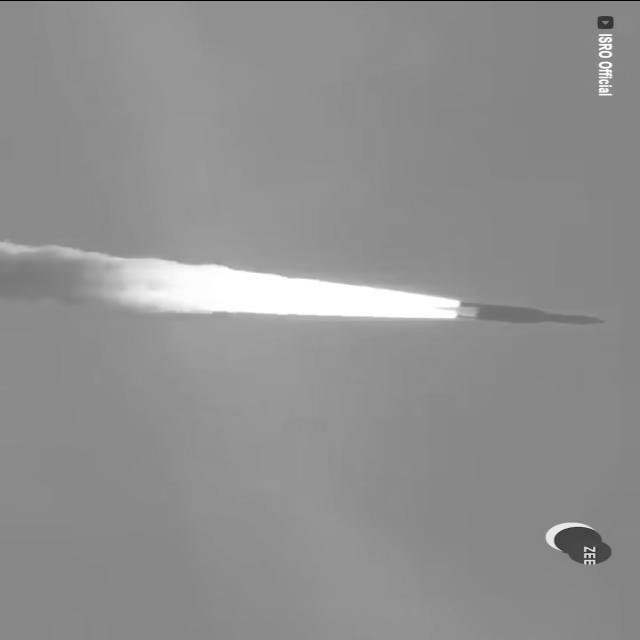missile: (426, 298, 612, 330)
